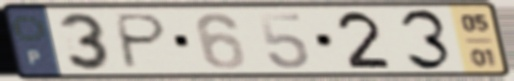2: (334, 9, 394, 70)
3: (393, 7, 453, 73), (55, 11, 114, 73)
5: (254, 11, 312, 70)
6: (191, 11, 247, 71)
P: (114, 12, 171, 71)
